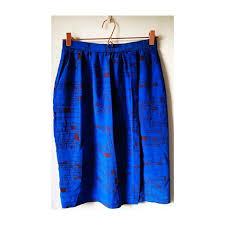C_skirt: (49, 31, 179, 211)
